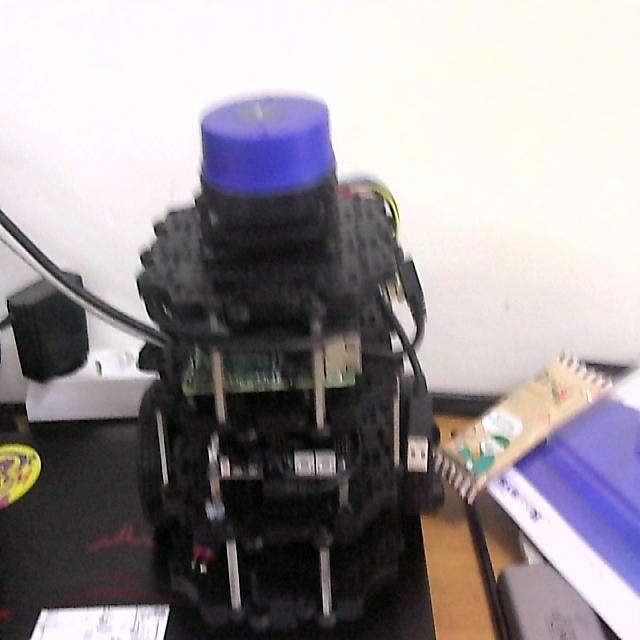turtle: (136, 94, 432, 640)
